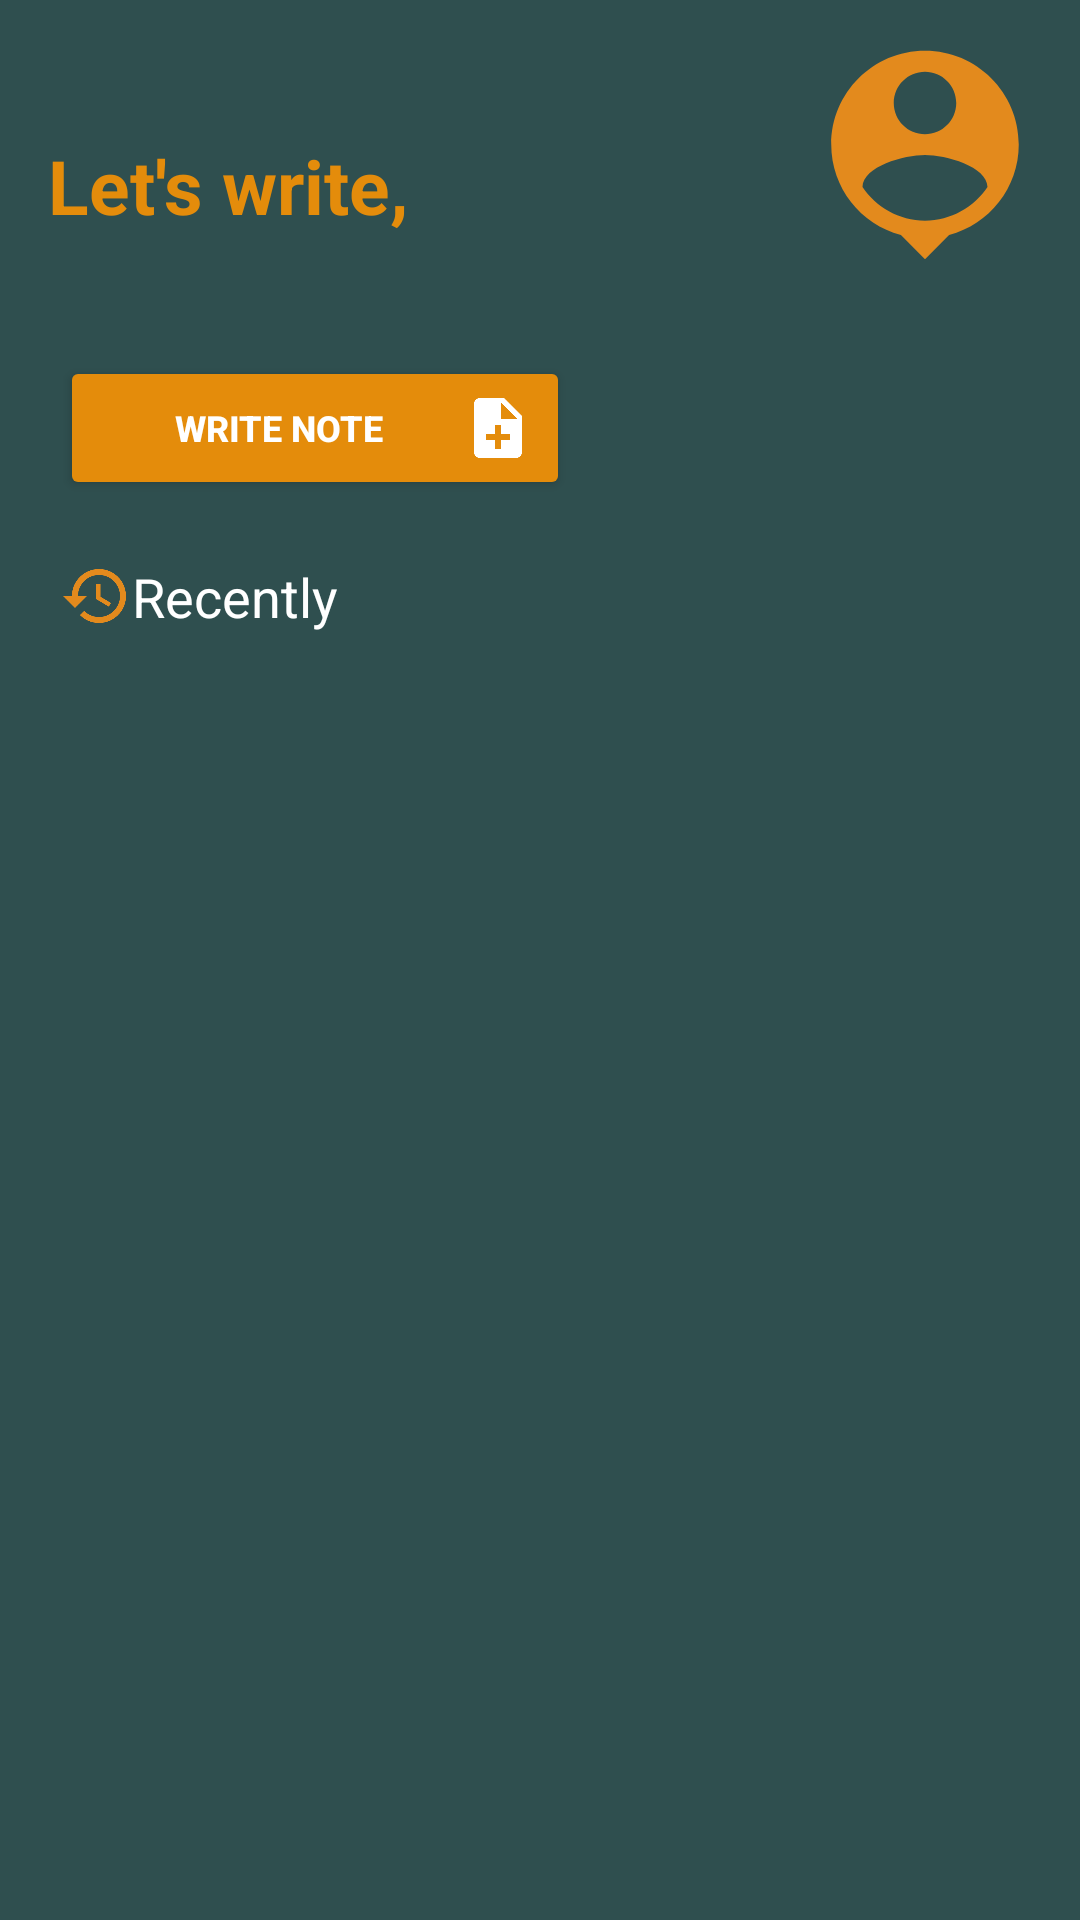

Named icons in this screenshot (1080px x 1920px) and their centers, point (x, y):
profile: point (925, 154)
